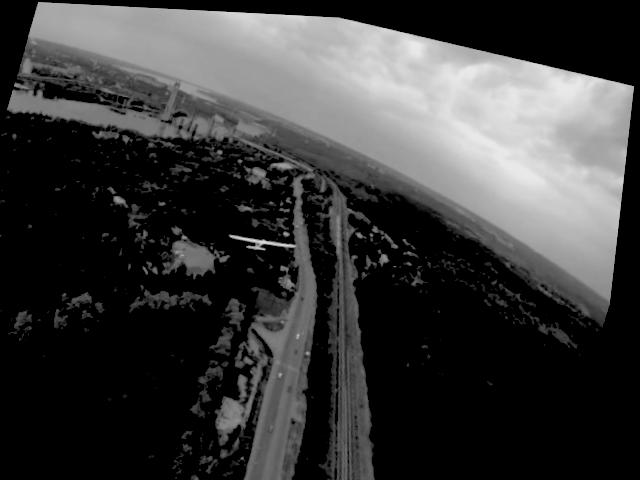hedef: (216, 218, 313, 263)
